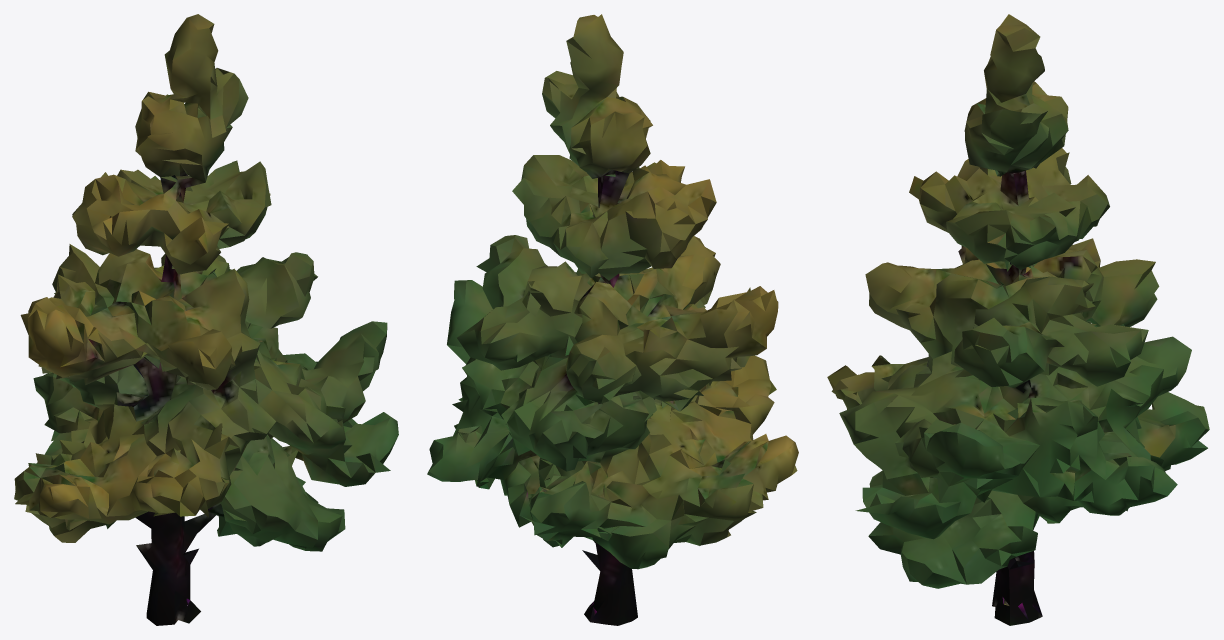
Rendered from tree-pine-young.glb.
3 renders of one model, left to right at view 1: azimuth 30°, elevation 25°; view 2: azimuth 150°, elevation 25°; view 3: azimuth 270°, elevation 25°, orthographic.
Visible parts, largest first — view 1: tree-pine-young.raw; view 2: tree-pine-young.raw; view 3: tree-pine-young.raw.
Boxes of the visible parts, bbox=[...] form: tree-pine-young.raw: bbox=[14, 14, 398, 625]; tree-pine-young.raw: bbox=[427, 14, 798, 625]; tree-pine-young.raw: bbox=[827, 14, 1209, 625].
Size of the model in its own units: 5.95 by 9.93 by 5.67.
1 material, 1 textured.
